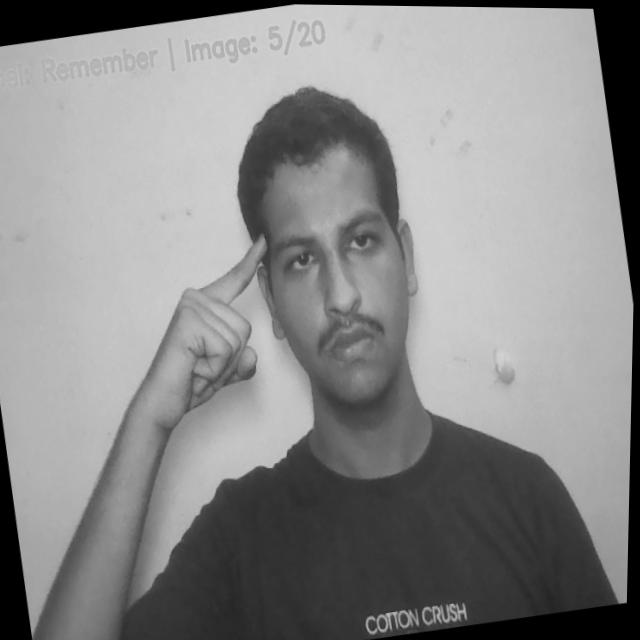Remember: (113, 229, 298, 432)
